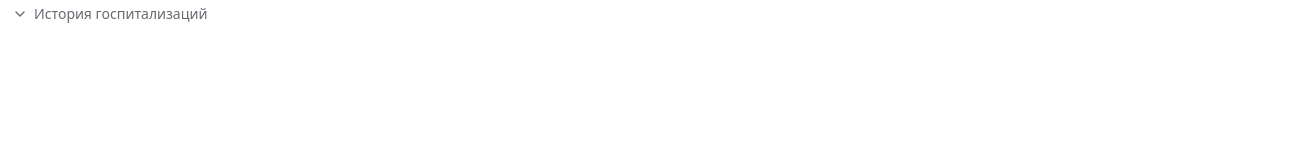
Test: PreviousHospitalizations › lists the other stays when opened, excluding the current one
Click the button "История госпитализаций": (110, 14) [12,4,208,24]
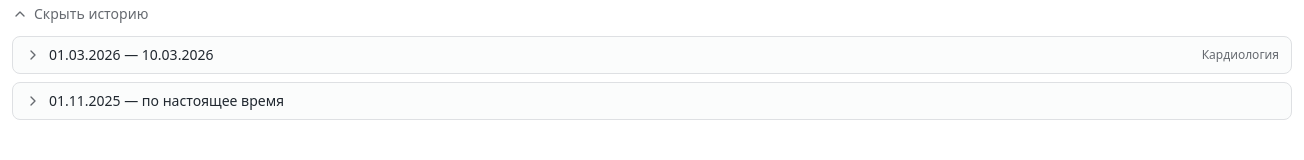
Now the text "01.03.2026 — 10.03.2026" is shown, box [49,45,213,65]
Now the text "Кардиология" is shown, box [1202,47,1279,63]
Now the text "01.11.2025 — по настоящее время" is shown, box [49,91,284,111]
